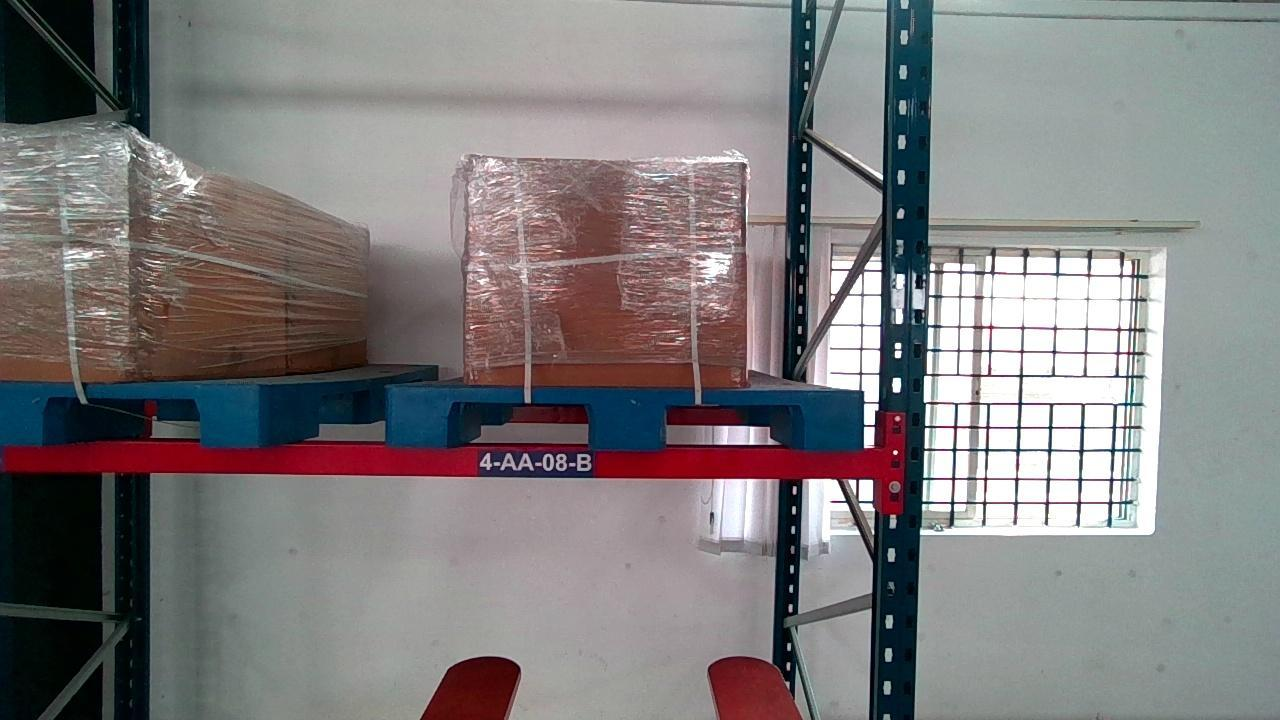h_rack: (3, 443, 879, 478)
small_pallet: (389, 388, 867, 448), (2, 381, 262, 446)
